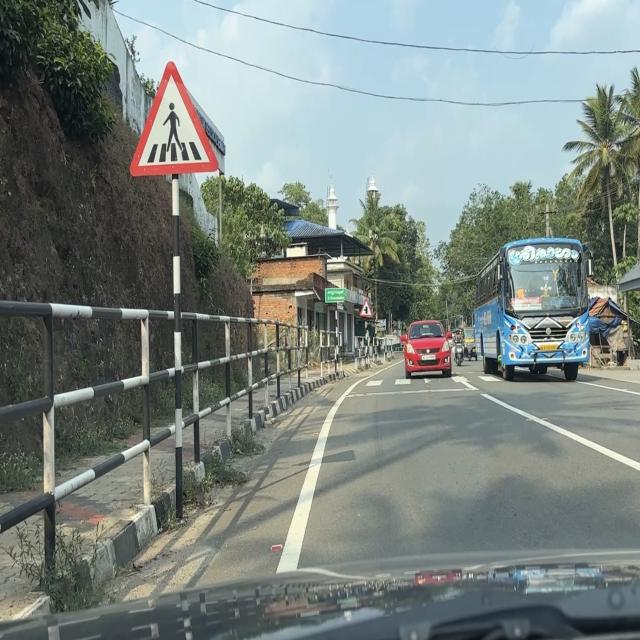GENERAL: (324, 287, 348, 304)
PEDESTRIAN_CROSSING: (129, 59, 220, 178)
SIDE_ROAD_LEFT: (358, 298, 374, 318)
